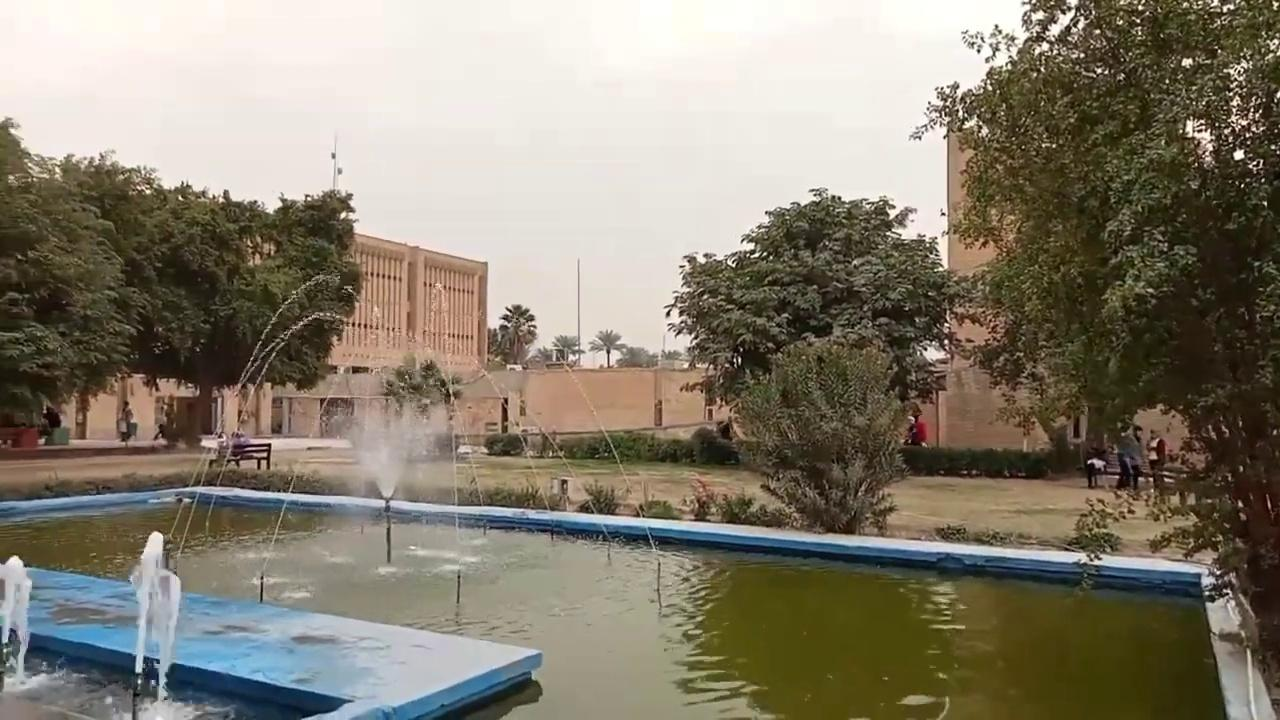fountain: (2, 269, 1271, 717), (2, 267, 544, 717), (1, 537, 543, 718), (314, 364, 460, 515), (126, 530, 182, 702)
person: (1115, 424, 1144, 491), (1145, 428, 1166, 488), (902, 402, 928, 447), (1085, 448, 1107, 488), (117, 400, 134, 444), (42, 404, 61, 429)
tree: (908, 0, 1279, 714), (0, 116, 362, 446), (664, 186, 980, 439), (135, 178, 361, 442), (0, 116, 138, 443), (730, 335, 911, 535), (487, 302, 537, 431), (381, 351, 447, 419), (491, 302, 537, 365), (587, 328, 625, 367), (550, 333, 582, 365), (438, 369, 464, 406)
